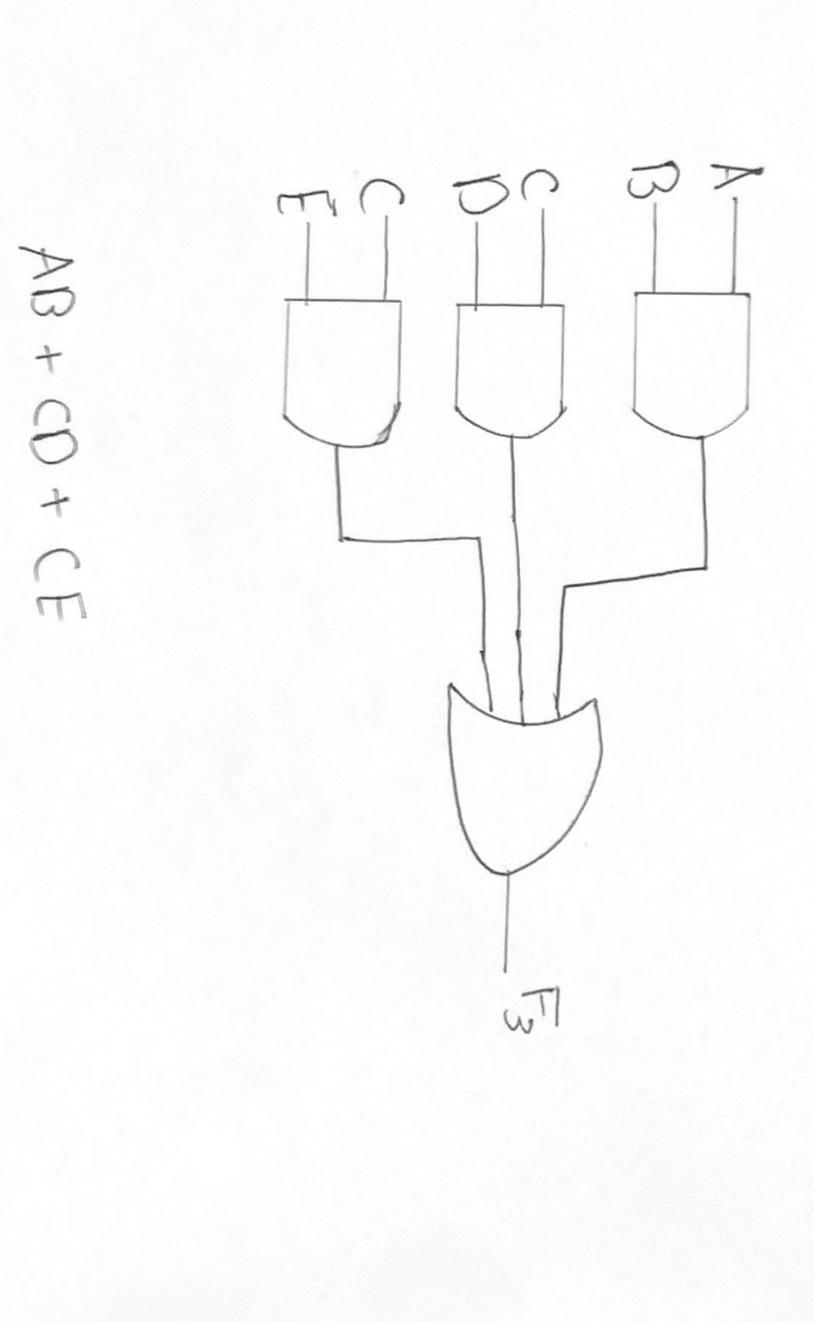AND: (262, 280, 425, 464), (625, 280, 770, 445), (443, 288, 597, 442)
OR: (398, 665, 635, 881)
